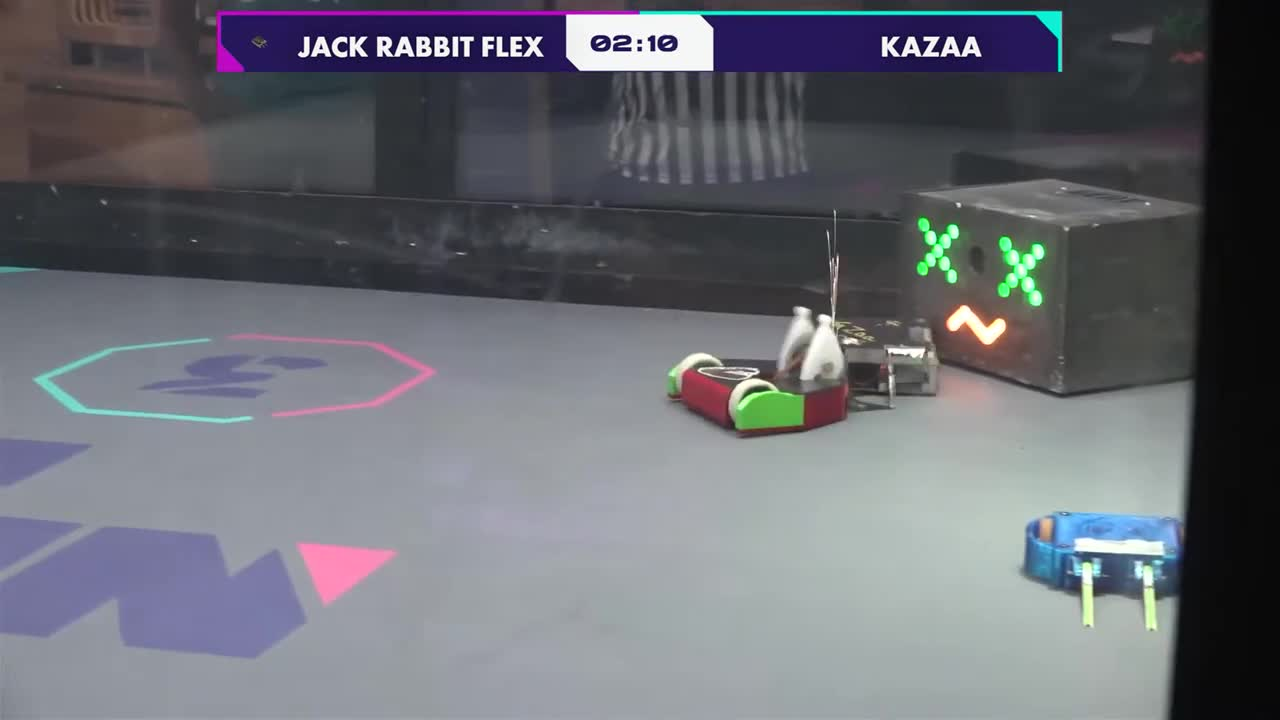combatbot: (666, 307, 888, 438), (777, 312, 941, 410), (1023, 511, 1180, 597)
housebot: (899, 173, 1198, 398)
